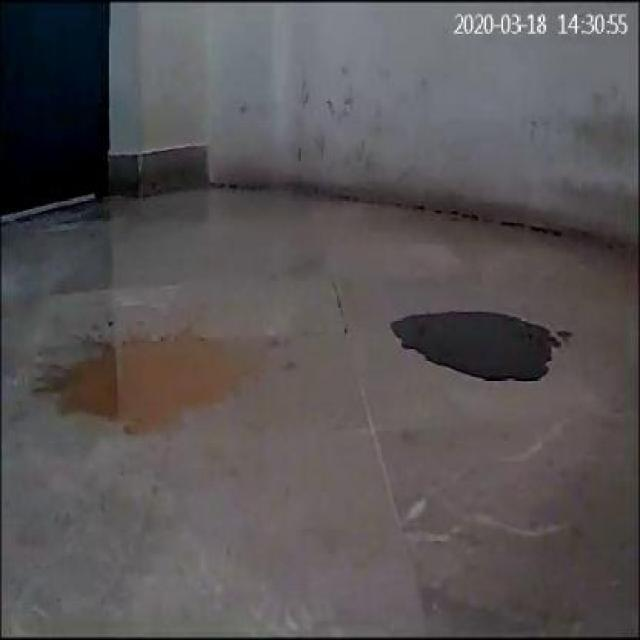spill: (54, 325, 242, 427), (398, 303, 568, 382)
